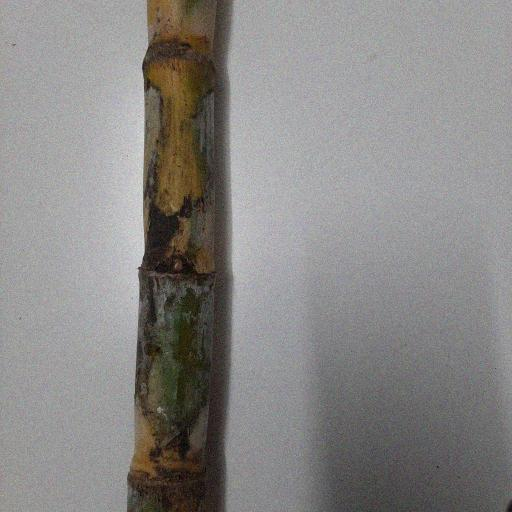Bud: (165, 253, 189, 274)
